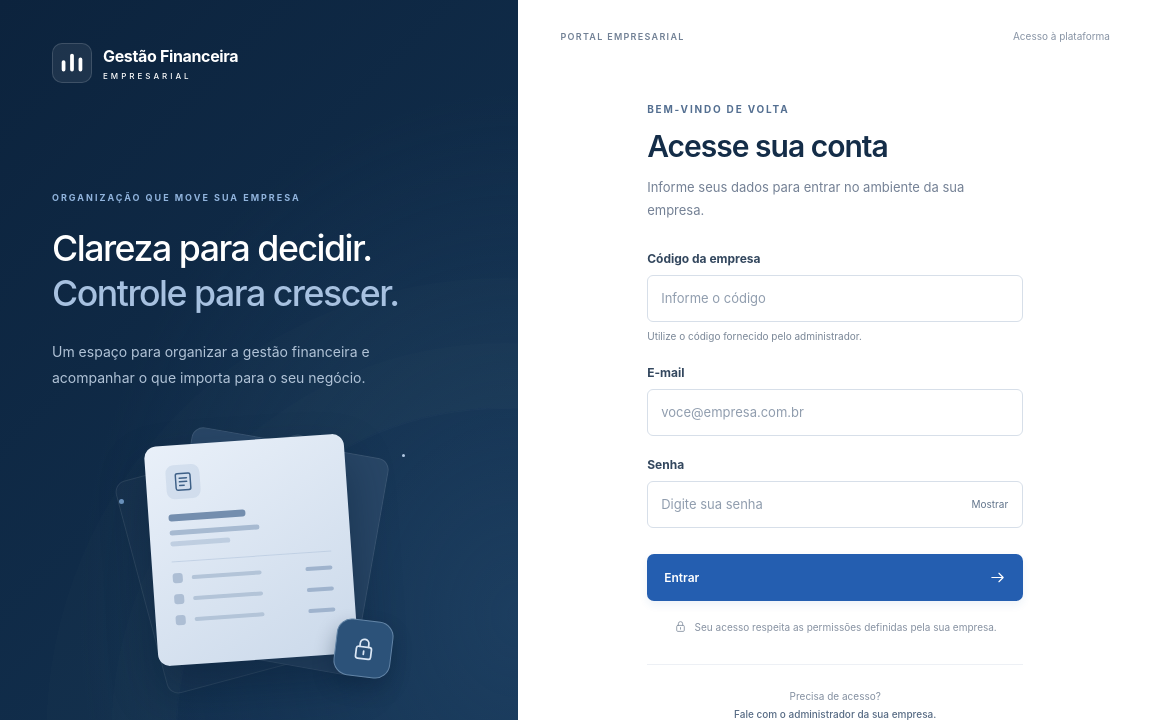
Scenario: Acesso empresarial › não aceita resposta de identidade pertencente a outra empresa
The image size is (1152, 720).
Type "7" into the field labelled "Código da empresa" at (835, 298), box top-left (647, 275), bottom-right (1023, 322)
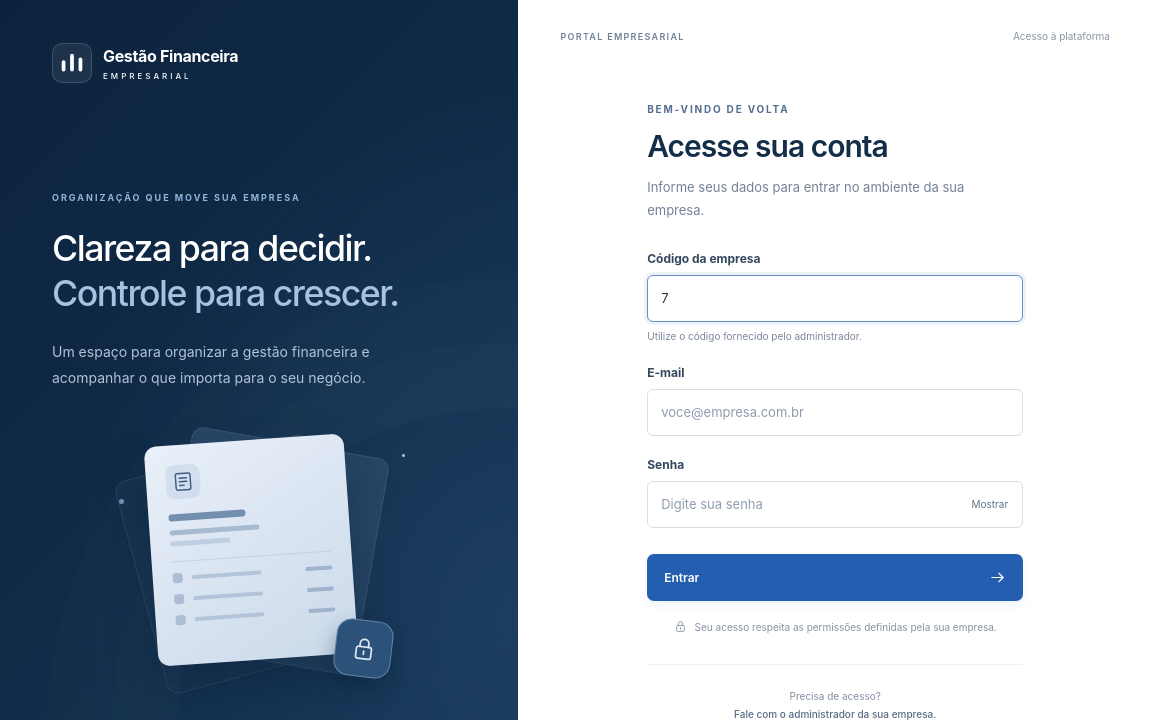
Type "ana@teste.invalid" into the field labelled "E-mail" at (835, 412), box top-left (647, 389), bottom-right (1023, 436)
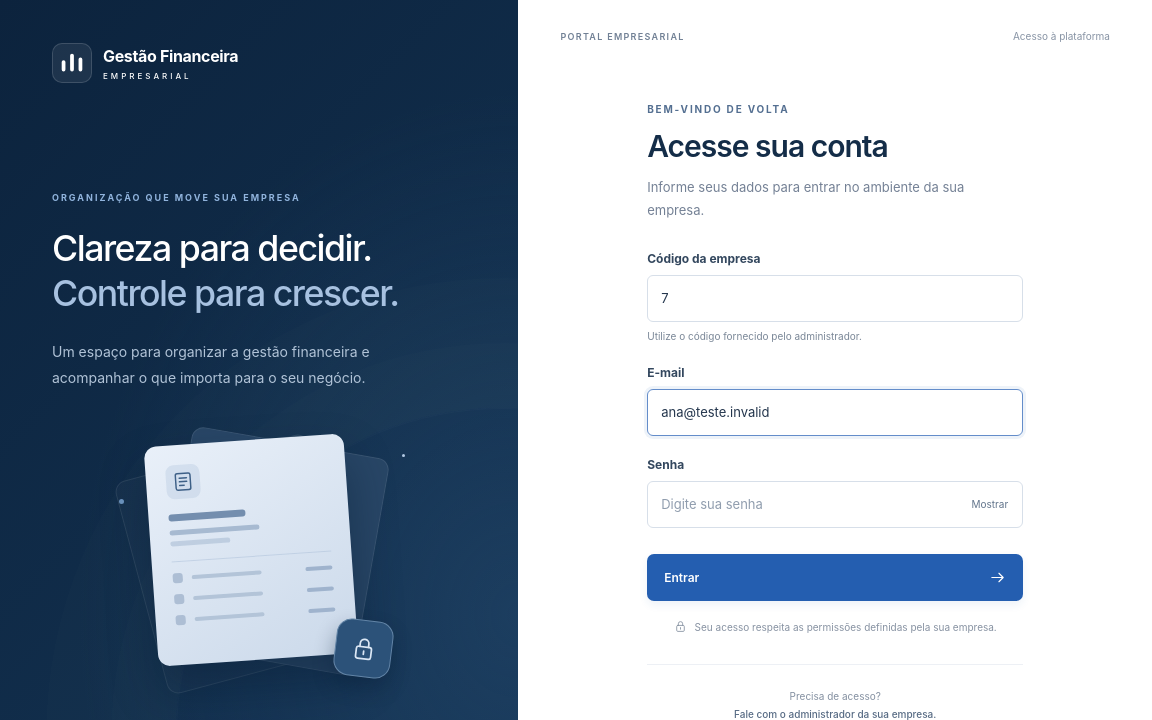
Type "senha-ficticia" into the password field labelled "Senha" at (835, 504), box top-left (647, 481), bottom-right (1023, 528)
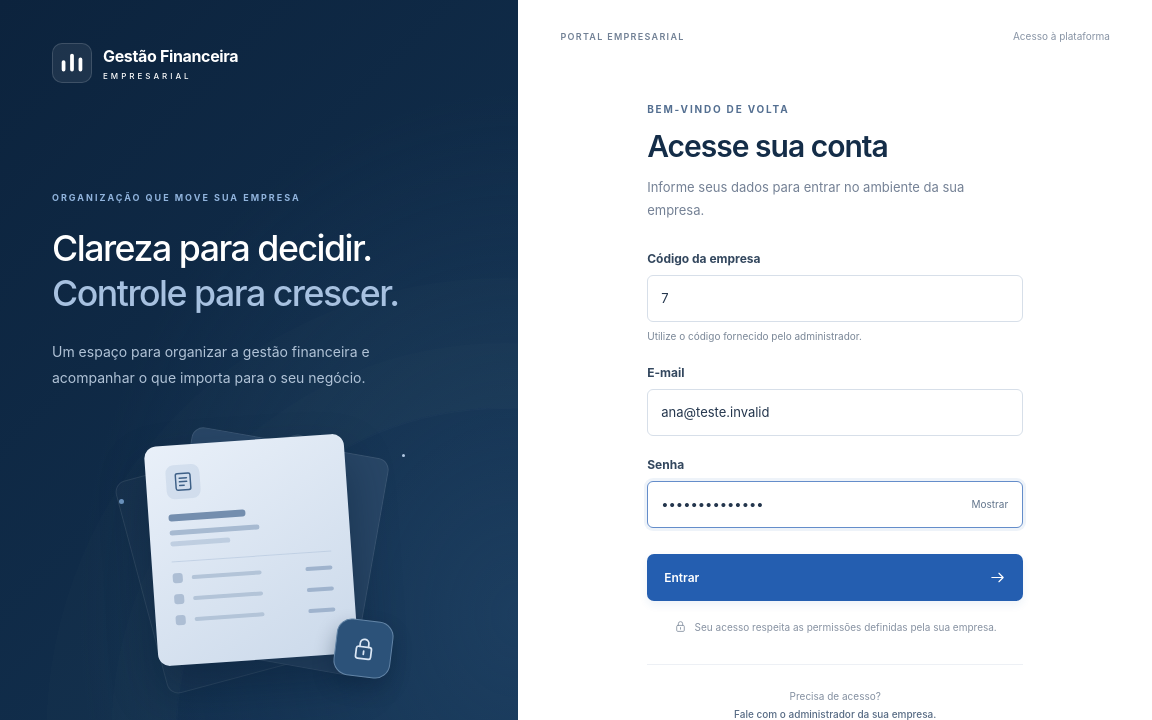
Click the button "Entrar" at (682, 577), box top-left (647, 554), bottom-right (1023, 601)
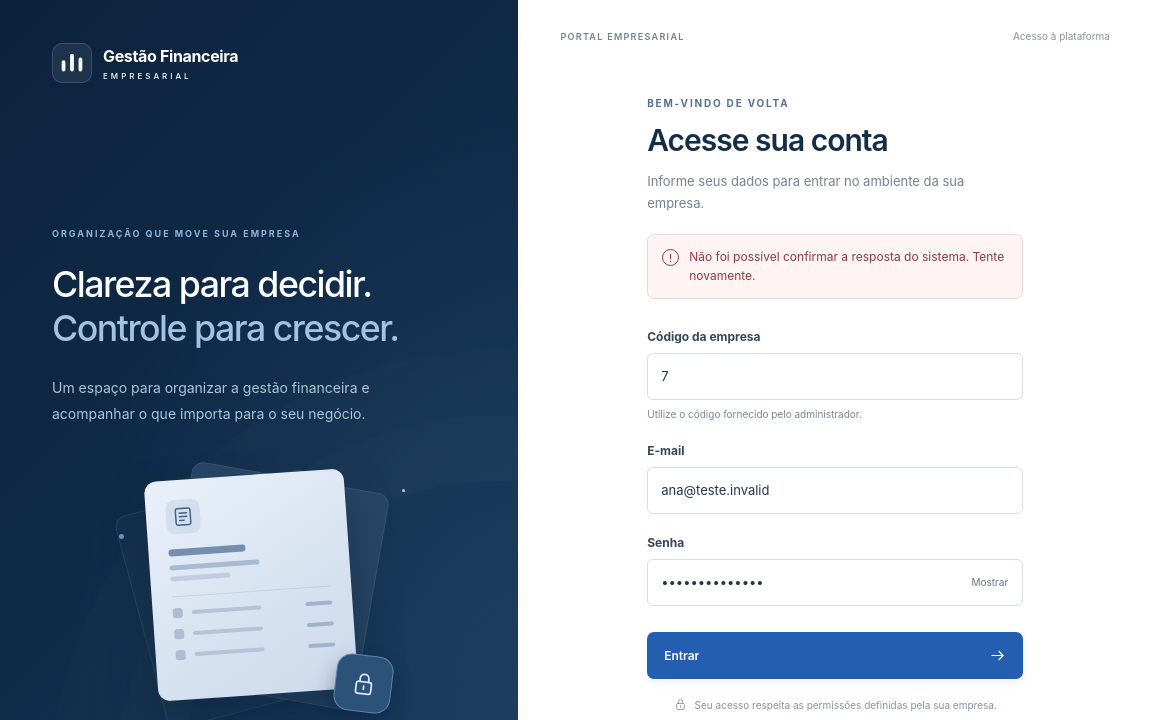
Result: the message "! Não foi possível confirmar a resposta do sistema. Tente novamente." is shown at top-left (647, 234), bottom-right (1023, 299)
